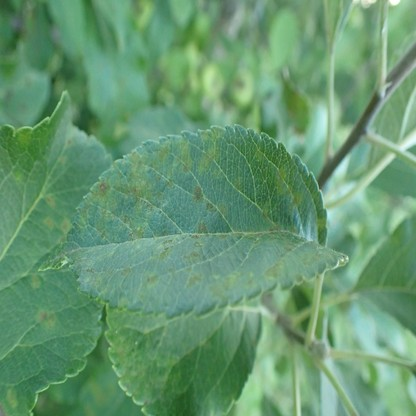scab: (81, 134, 325, 301), (107, 307, 181, 401), (0, 387, 18, 415), (35, 309, 55, 329), (29, 276, 41, 291), (61, 216, 70, 232), (44, 195, 55, 206), (44, 215, 53, 228)
